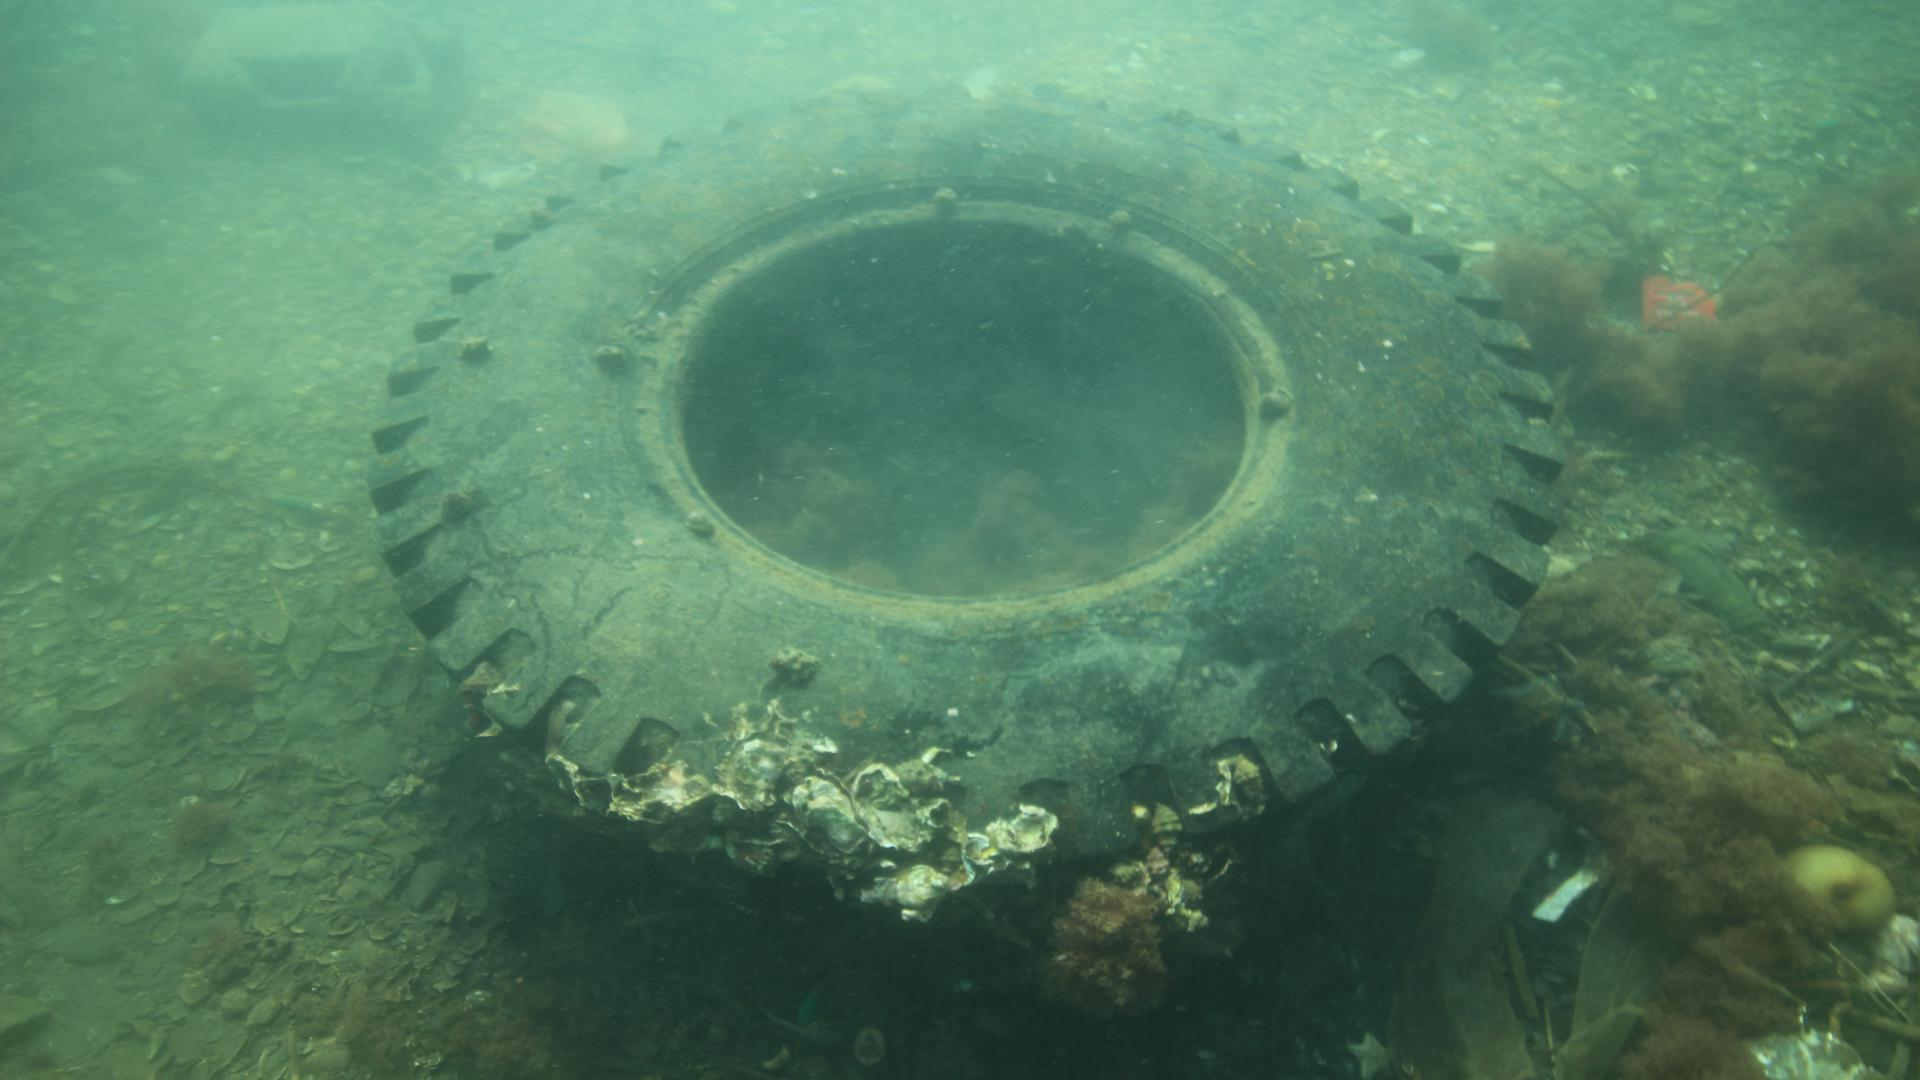tire: (367, 83, 1575, 984)
